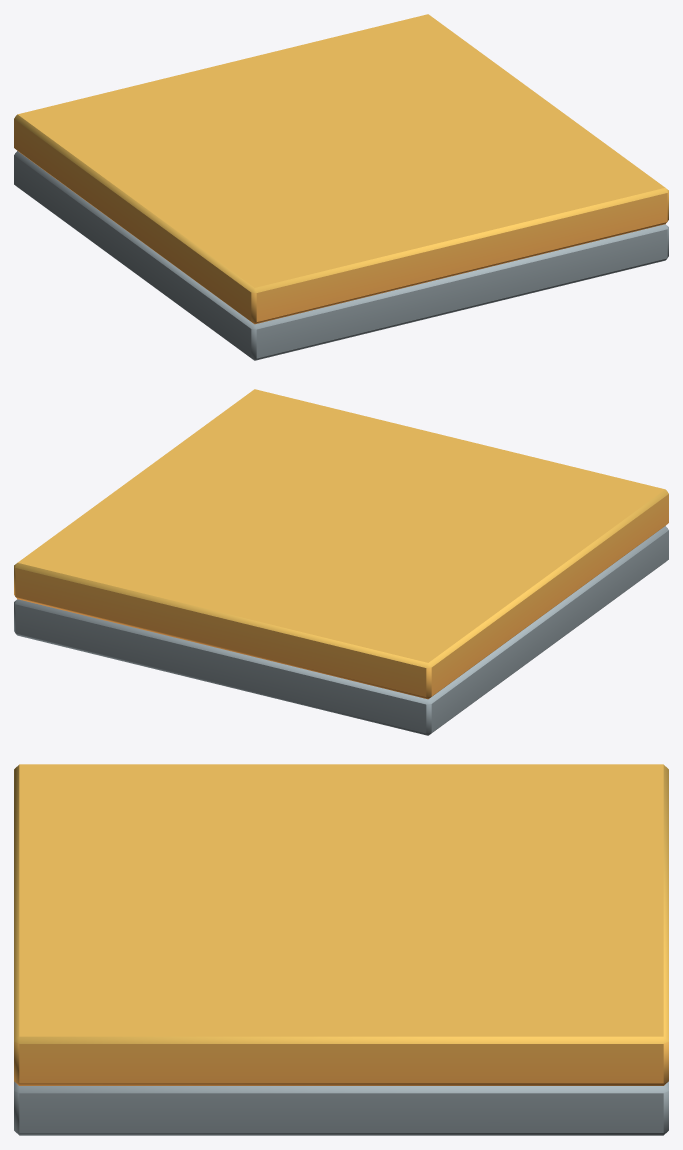
The model's file is platform_6x6x1_yellow.glb.
The picture shows the model from 3 angles, top to bottom: view 1: azimuth 30°, elevation 25°; view 2: azimuth 150°, elevation 25°; view 3: azimuth 270°, elevation 25°; orthographic projection. The views are drawn at different scales.
Parts seen in each view (by area): view 1: platform_6x6x1_yellow; view 2: platform_6x6x1_yellow; view 3: platform_6x6x1_yellow.
Boxes of the visible parts, left/top/right/bottom form: platform_6x6x1_yellow: left=14, top=14, right=668, bottom=360; platform_6x6x1_yellow: left=14, top=389, right=668, bottom=735; platform_6x6x1_yellow: left=14, top=764, right=668, bottom=1135.
Size of the model in its own units: 6 by 1 by 6.
1 material, 1 textured.
